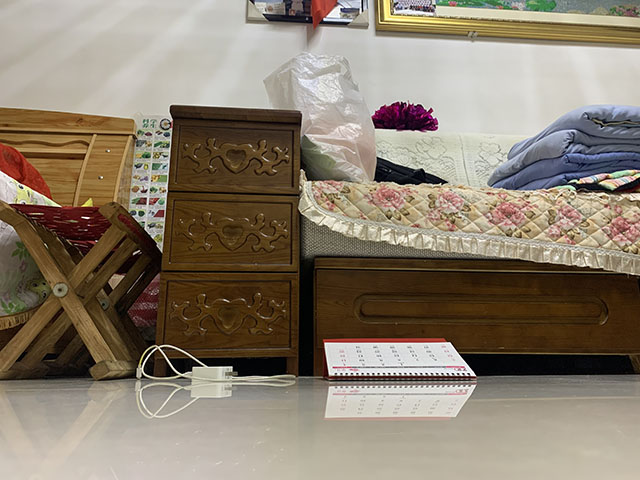sofa: (155, 49, 640, 379)
stool: (1, 194, 162, 382)
wire: (134, 343, 297, 384)
